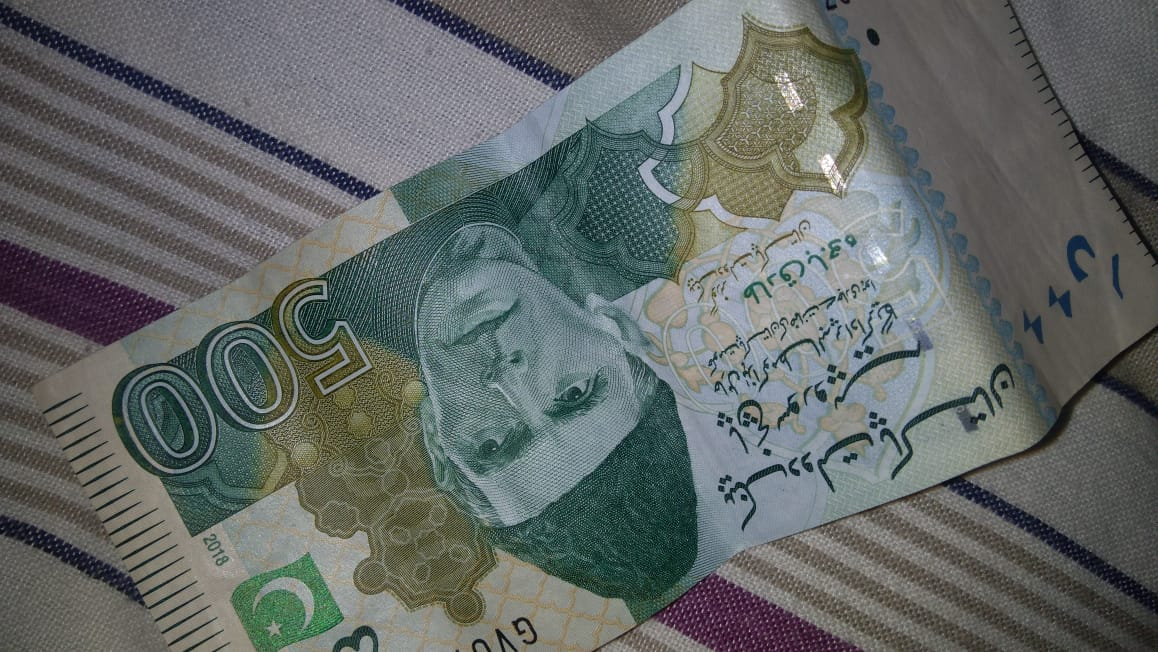500 rupee: (43, 8, 1119, 645)
